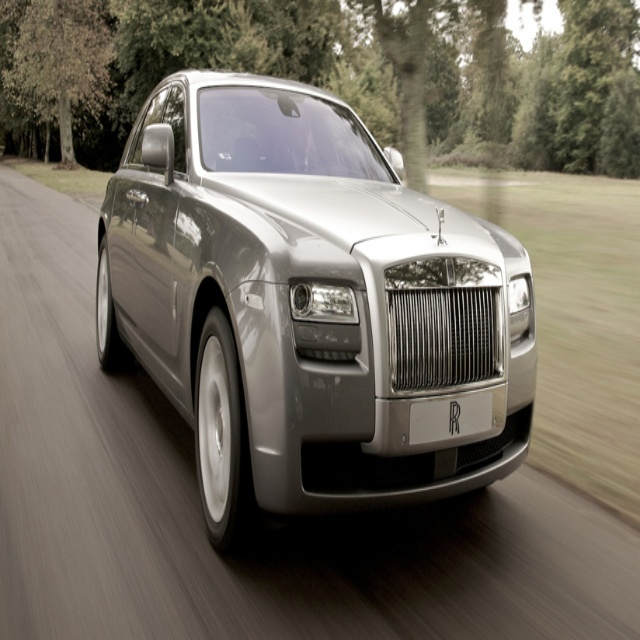Car: (94, 67, 537, 559)
